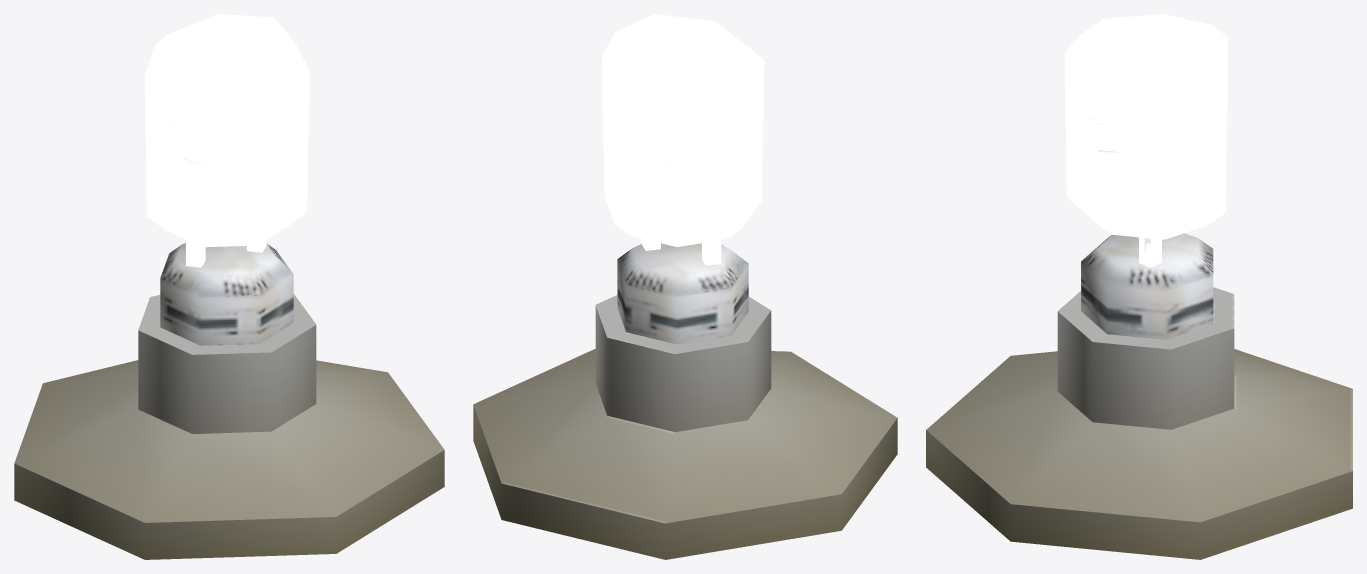
File: Focus_02-col.glb
3 views of the same model, side by side, from view 1: azimuth 30°, elevation 25°; view 2: azimuth 150°, elevation 25°; view 3: azimuth 270°, elevation 25° (orthographic). The views are drawn at different scales.
Visible parts, largest first — view 1: Focus_02-col; view 2: Focus_02-col; view 3: Focus_02-col.
Boxes of the visible parts, bbox=[...] form: Focus_02-col: bbox=[14, 14, 444, 559]; Focus_02-col: bbox=[473, 14, 897, 559]; Focus_02-col: bbox=[926, 14, 1352, 559].
Size of the model in its own units: 0.4152 by 0.4613 by 0.4048.
1 material, 1 textured.
